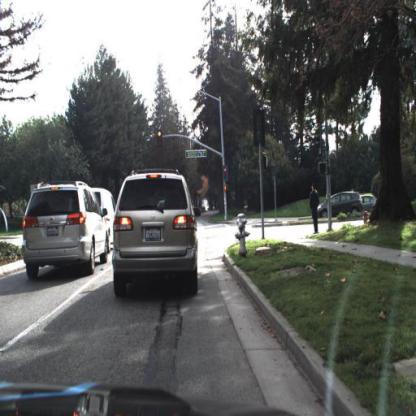car: (112, 171, 204, 301), (19, 179, 109, 283), (316, 187, 365, 223), (94, 186, 119, 247), (357, 191, 379, 216)
pedestrian: (309, 184, 321, 236)
trafficLight-Red: (223, 167, 230, 185), (157, 130, 163, 148), (39, 180, 47, 193), (40, 180, 46, 191)
